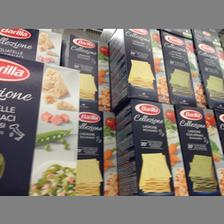Nudeln: (0, 52, 80, 194), (114, 98, 188, 194), (107, 27, 171, 107), (157, 27, 205, 105), (65, 32, 107, 100)
